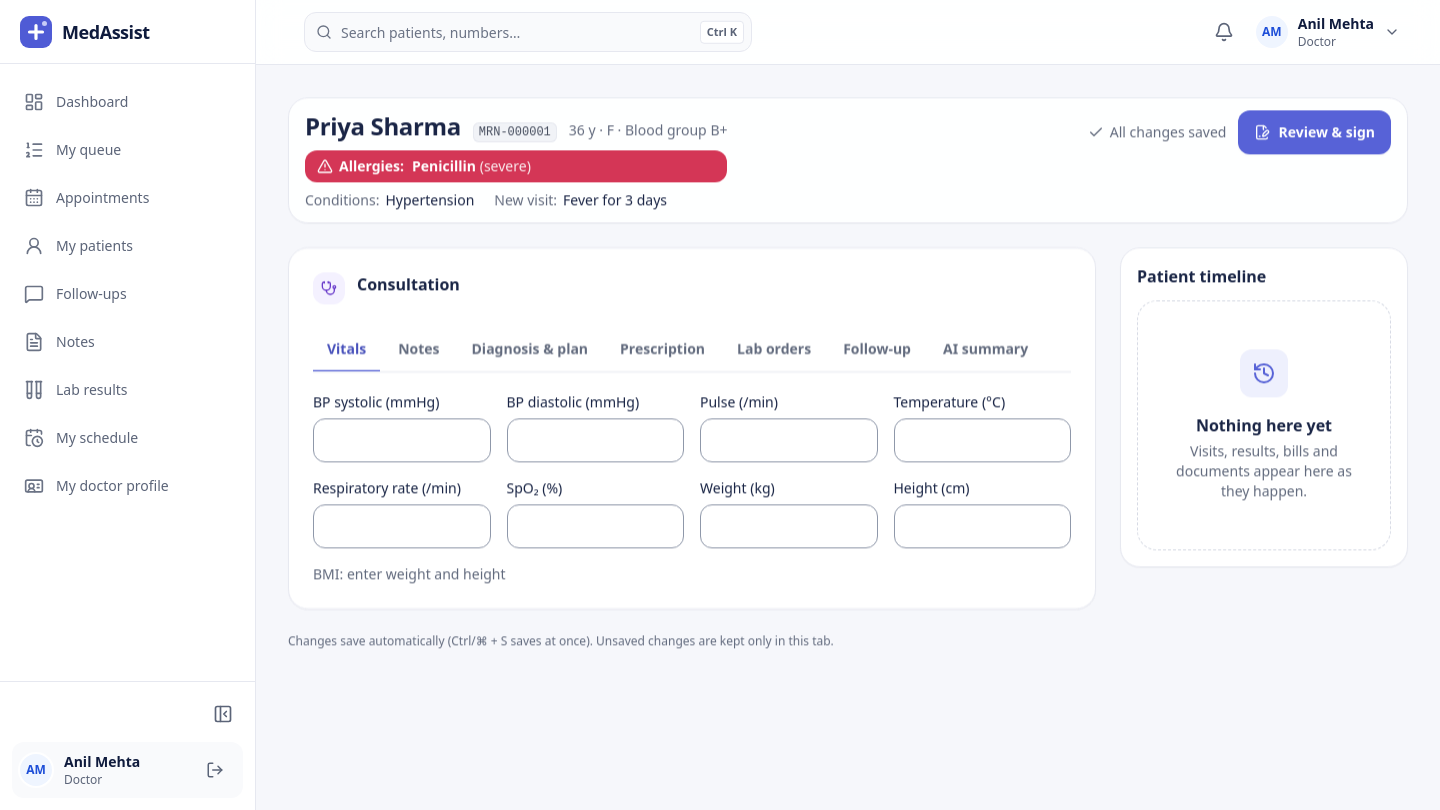
Test case: Generate › shows the wait with a way to stop waiting
The width and height of the screenshot is (1440, 810).
Click the tab "AI summary".
click(986, 350)  # box [929,328,1042,372]
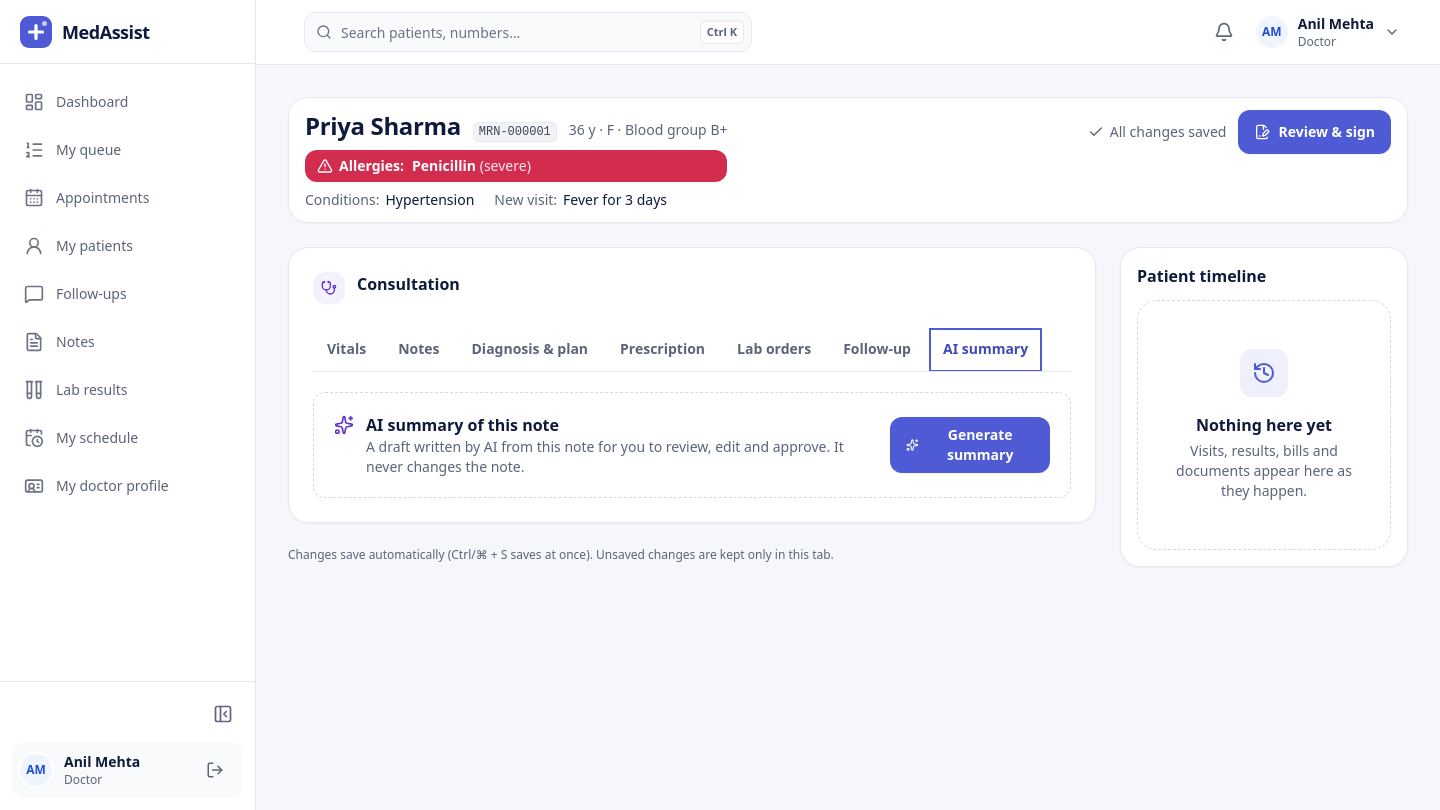
Click the button "Generate summary".
click(970, 445)  # box [890,417,1050,473]
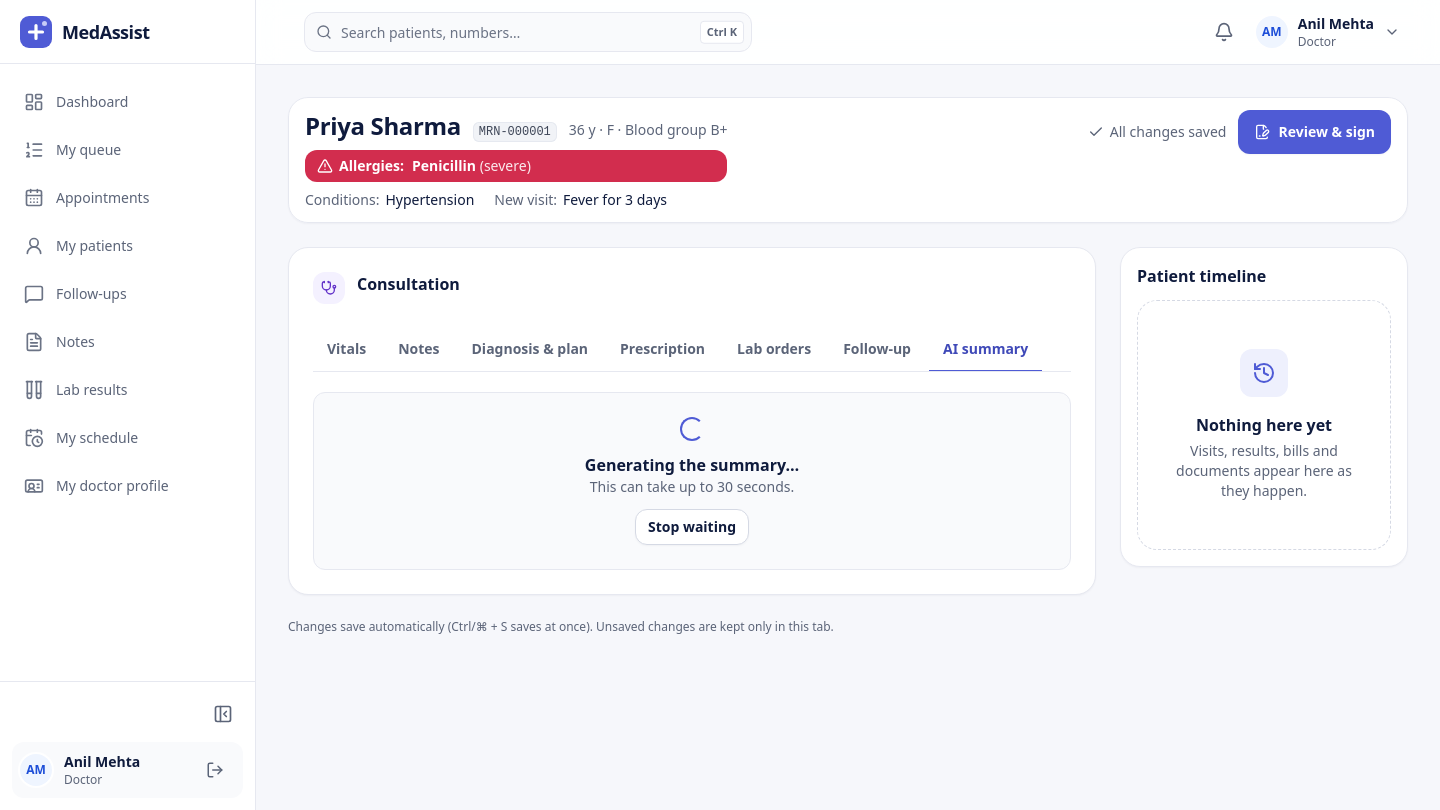
expect the text "This can take up to 30 seconds." is shown: met, box [585,477,799,497]
Click the button "Stop waiting".
click(692, 527)  # box [635,509,749,545]
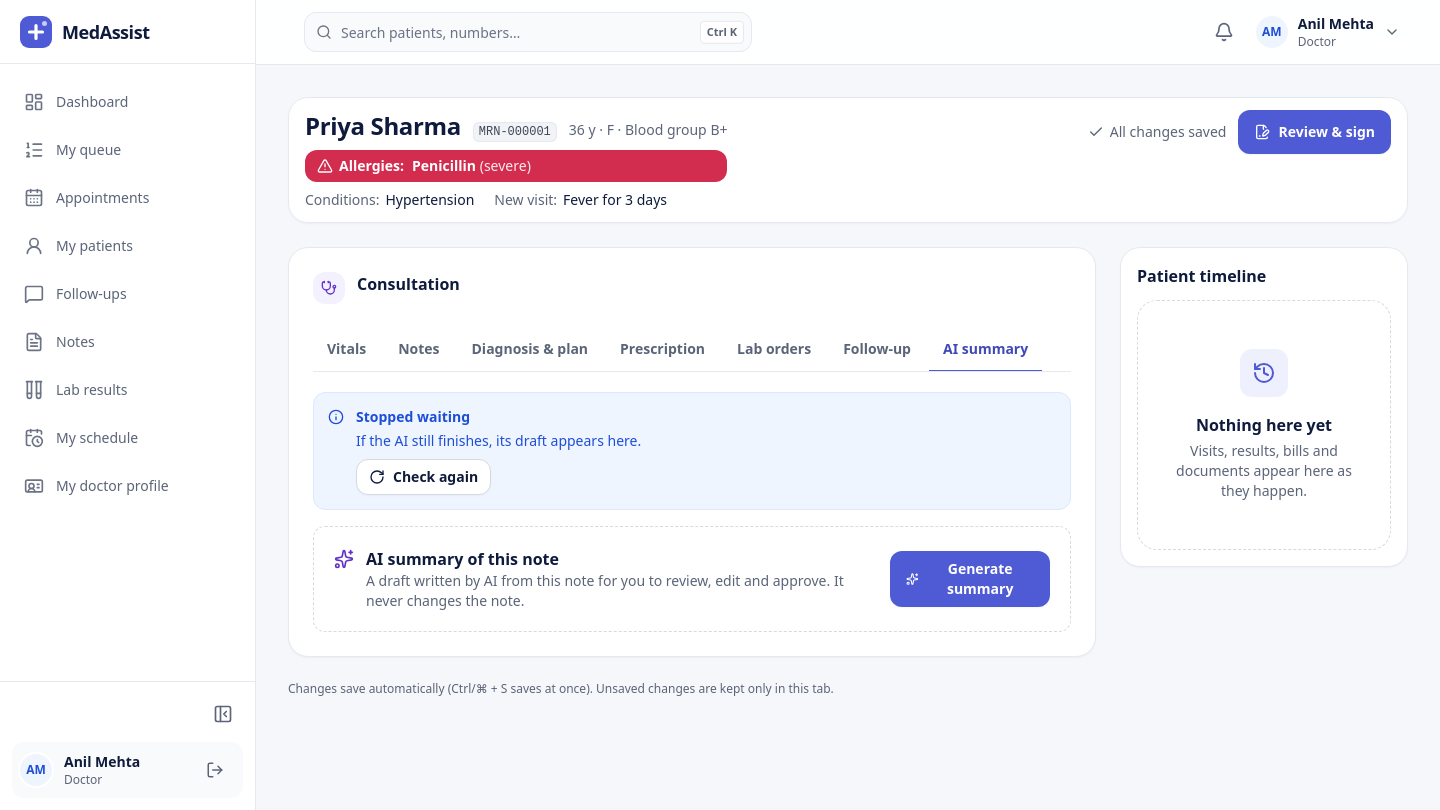
expect the text "Stopped waiting" is shown: met, box [356,407,470,426]
